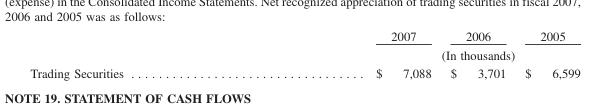table: (29, 28, 579, 79)
table column: (29, 28, 249, 79), (249, 28, 440, 79), (440, 28, 514, 79), (514, 28, 579, 79)
table column header: (29, 28, 579, 63)
table row: (29, 45, 579, 63), (29, 28, 579, 45), (29, 63, 579, 79)
table spanning cell: (249, 45, 579, 63)
